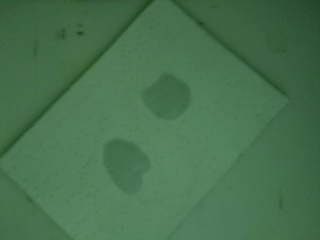Water_detected: (152, 71, 193, 114), (106, 152, 147, 190)
